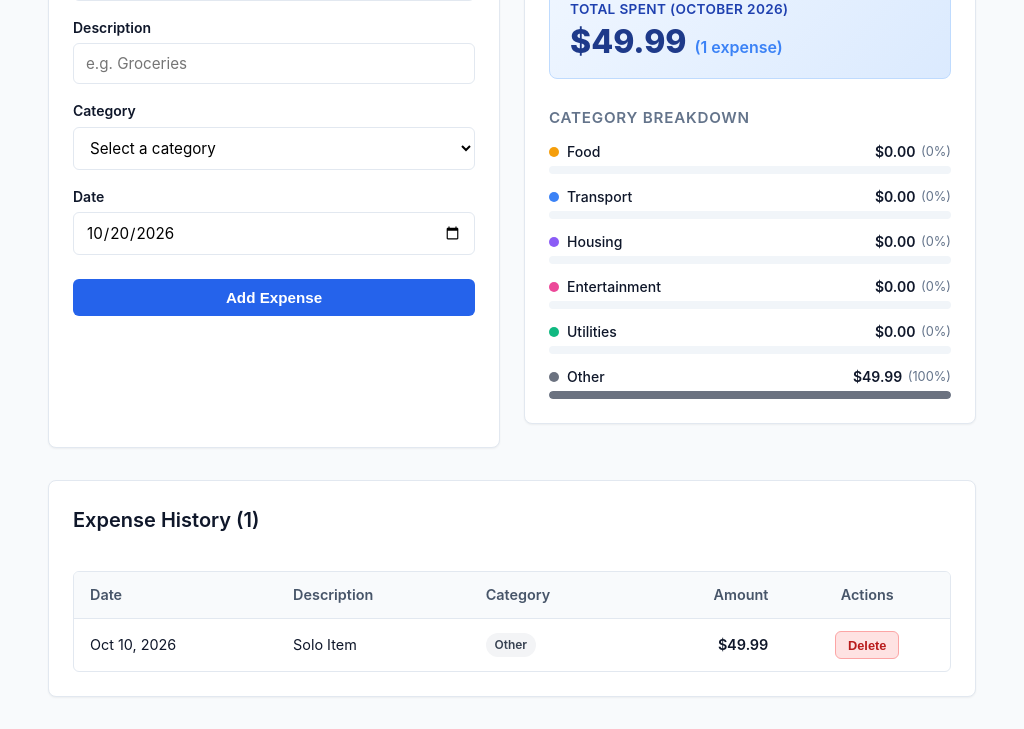
Test: QA Adversarial Test Suite - Issue #3 (UI, Expense Management & LocalStorage Persistence) › 3. Deletion Edge Cases & Instant Reactive Updates › deleting an item removes it and reverts to empty state when it was the only expense
This screenshot has width=1024, height=729.
(page scrolled)
Check: the text "Solo Item" is shown, box [277,618,470,671]
Check: the text with test id "monthly-total-value" reads "$49.99", box [570,22,686,61]
Click the button with aria-label "delete solo item" at coordinates (867, 645), box [835,631,899,659]
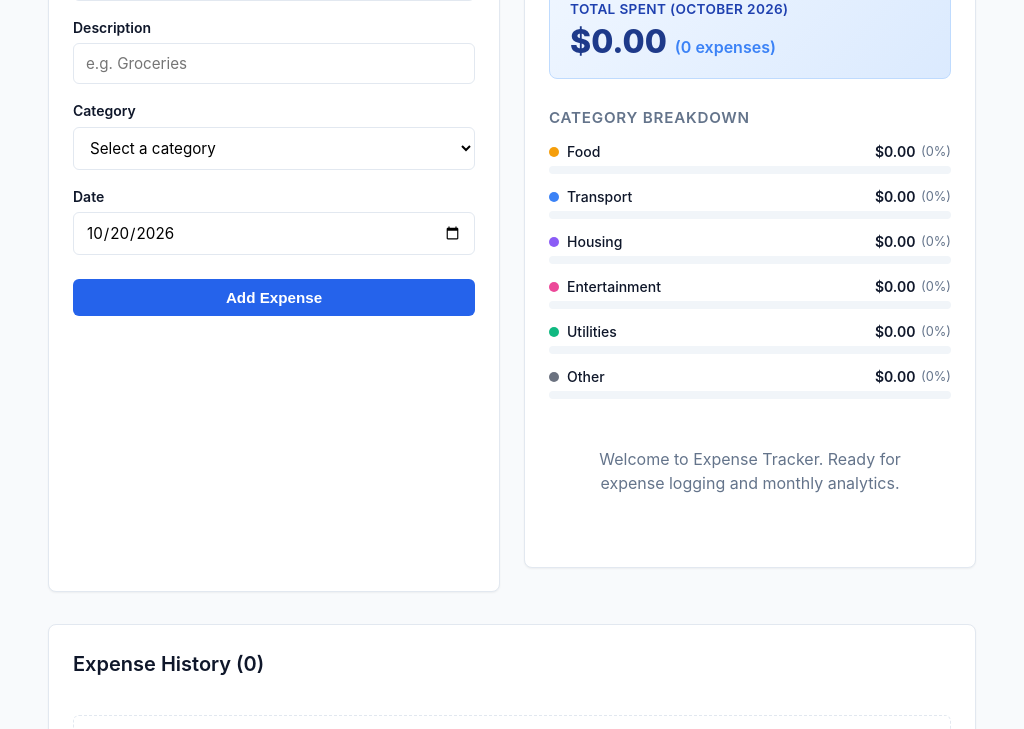
Check: the text "Solo Item" is gone
Check: the text with test id "monthly-total-value" reads "$0.00", box [570,22,667,61]
